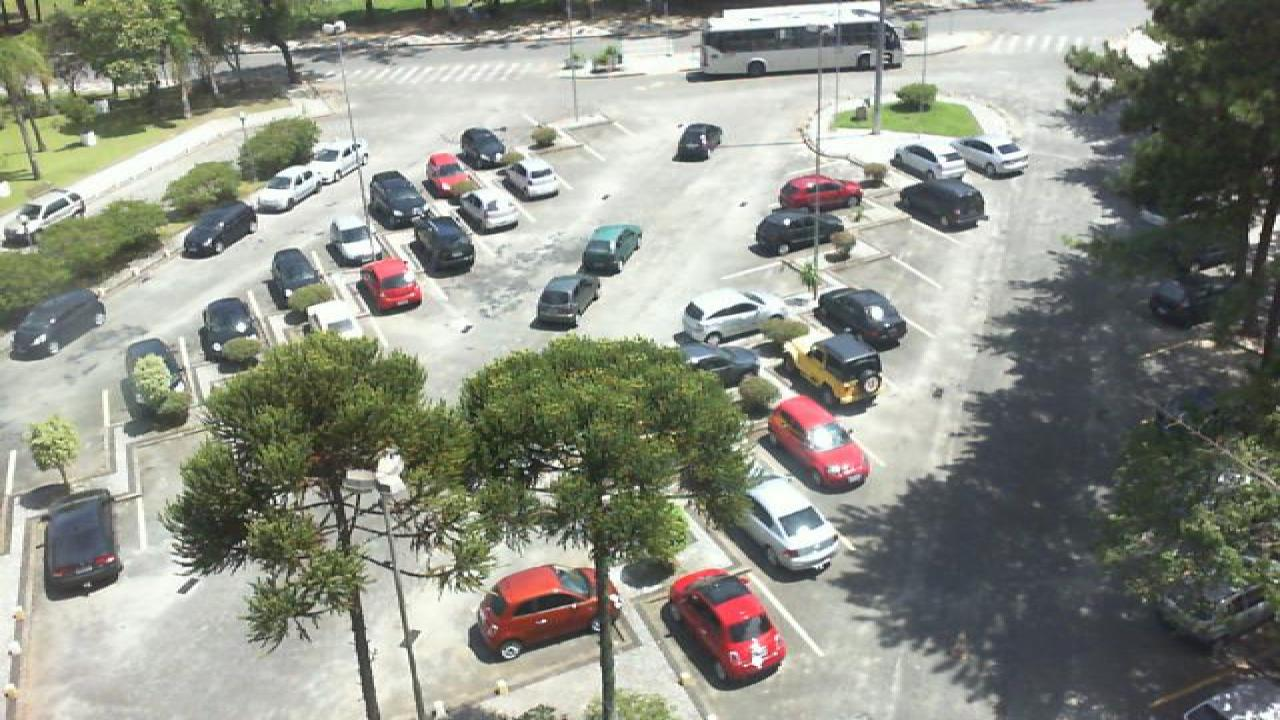Car: (470, 562, 630, 662), (664, 568, 786, 689), (740, 467, 842, 570), (762, 394, 872, 487), (782, 333, 886, 412), (42, 492, 122, 587), (12, 287, 108, 358), (680, 287, 786, 345), (814, 286, 908, 348), (122, 338, 190, 420), (198, 294, 266, 361), (752, 209, 846, 256), (898, 178, 986, 228), (410, 214, 474, 276), (182, 202, 256, 254), (674, 344, 760, 388), (530, 276, 602, 328), (264, 246, 328, 304), (366, 170, 430, 227), (254, 163, 326, 213), (360, 258, 424, 314), (578, 224, 642, 276), (892, 142, 970, 182), (952, 137, 1030, 177), (424, 151, 484, 201), (328, 216, 384, 267), (306, 300, 368, 346), (778, 174, 862, 207), (458, 187, 520, 231), (306, 140, 368, 184), (498, 156, 560, 198), (458, 126, 508, 170), (678, 122, 722, 160)
